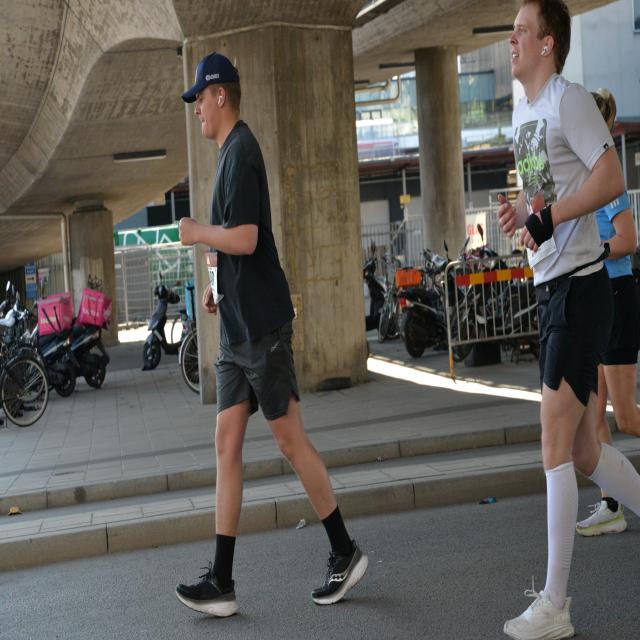runner-detect: (172, 32, 373, 624), (480, 11, 625, 640)
